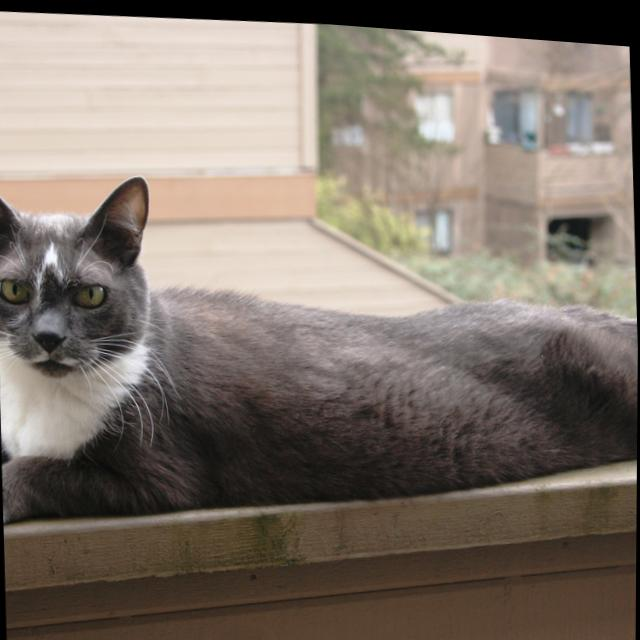animals: (0, 165, 144, 355)
